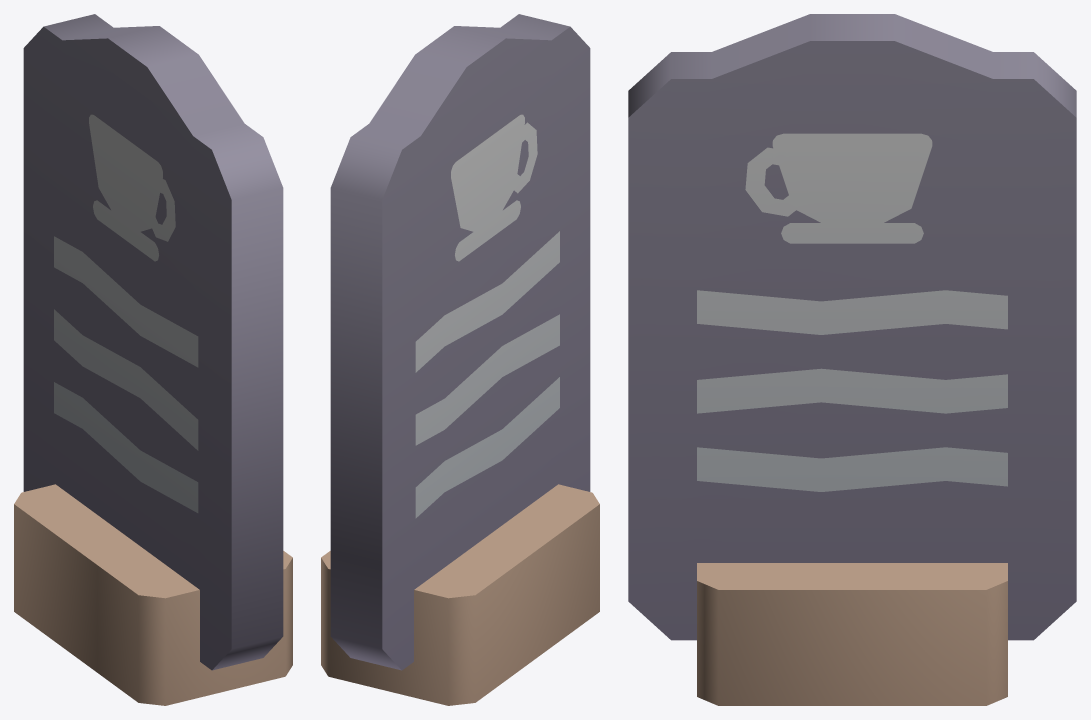
Rendered from chalkboard-sign-table.glb.
3 views of the same model, side by side, from view 1: azimuth 30°, elevation 25°; view 2: azimuth 150°, elevation 25°; view 3: azimuth 270°, elevation 25° (orthographic). The views are drawn at different scales.
Visible parts, largest first — view 1: chalkboard-sign-table; view 2: chalkboard-sign-table; view 3: chalkboard-sign-table.
Boxes of the visible parts, bbox=[...] form: chalkboard-sign-table: bbox=[14, 14, 292, 705]; chalkboard-sign-table: bbox=[321, 14, 599, 705]; chalkboard-sign-table: bbox=[628, 14, 1076, 705].
Bounding box in the file's own units: 0.09 × 0.3297 × 0.21.
